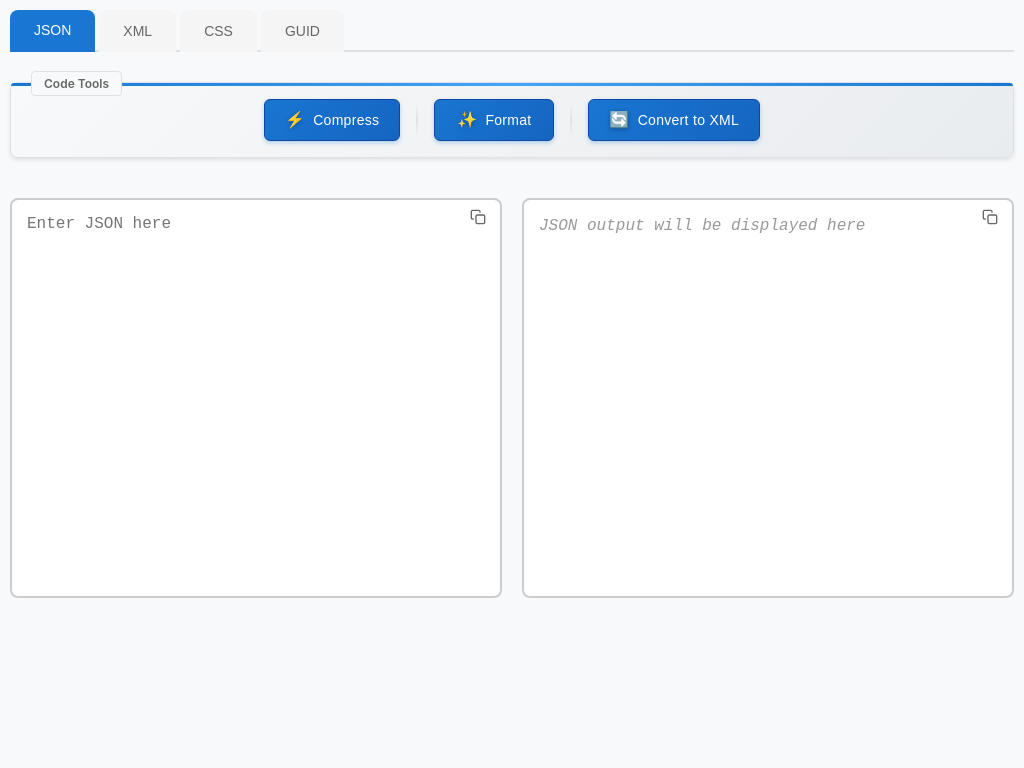
converts XML to JSON correctly
The width and height of the screenshot is (1024, 768).
# Switch to XML tab
Step 1. Click the button "XML" → (138, 31), box [99,10,176,52]
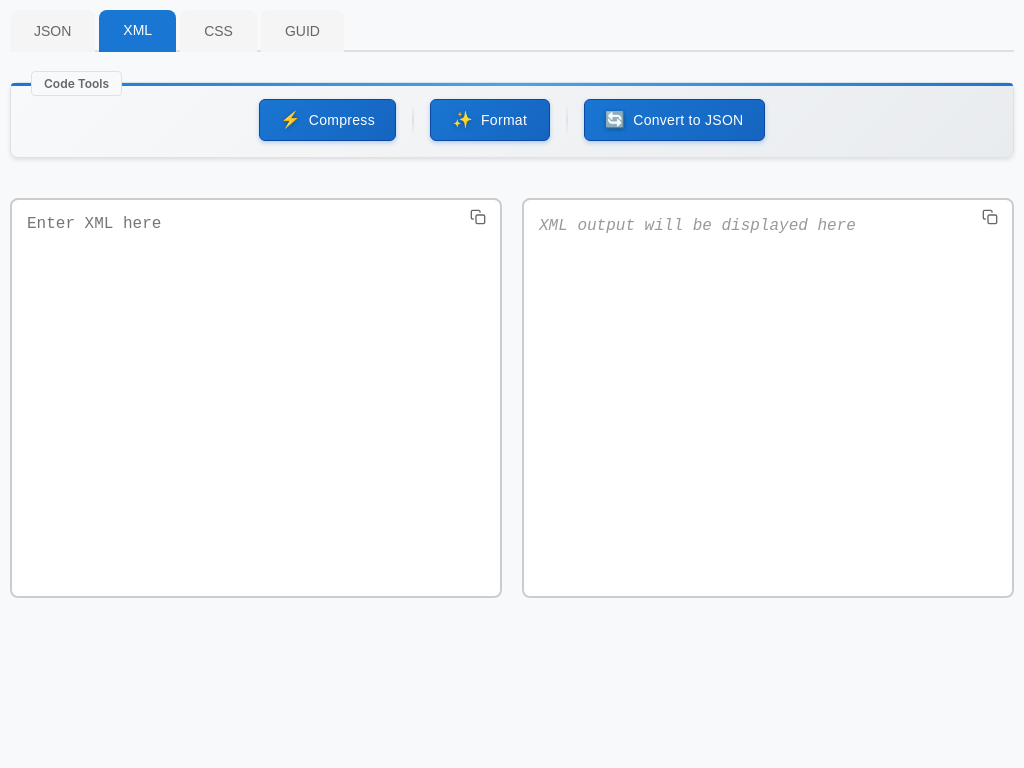
Step 2. Type "<root><name>John</name><age>30</age></root>" into the text box with placeholder "Enter XML here" → (256, 398), box [10,198,502,598]
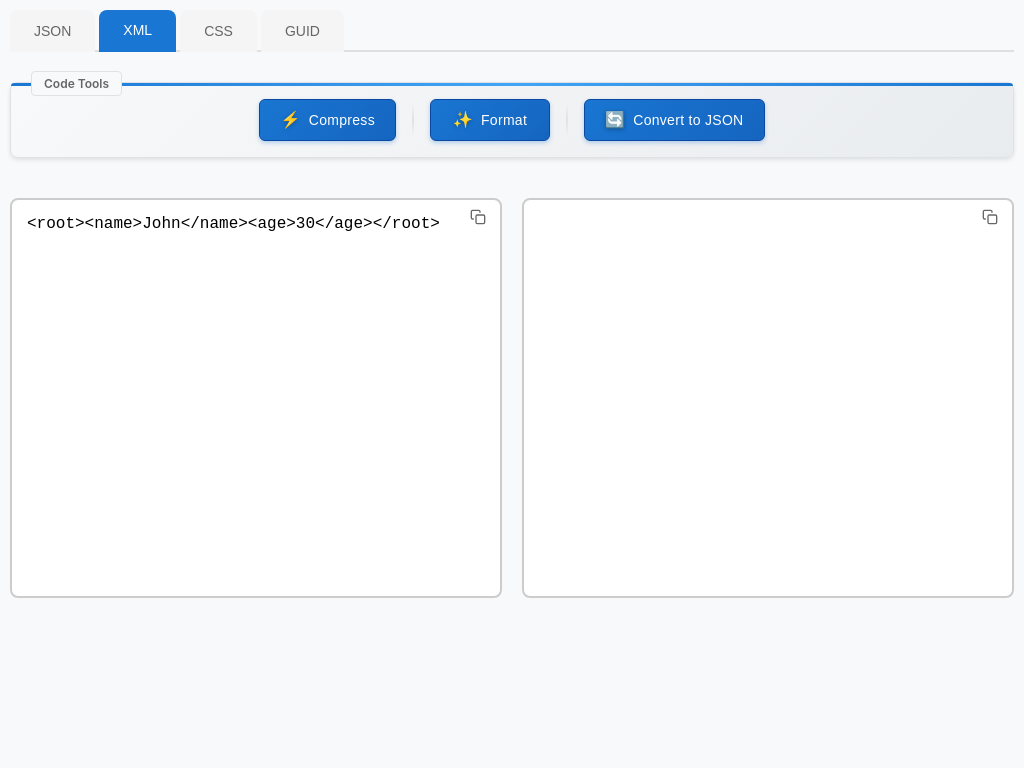
Step 3. Click the button "Convert to JSON" → (674, 120), box [584,99,764,141]
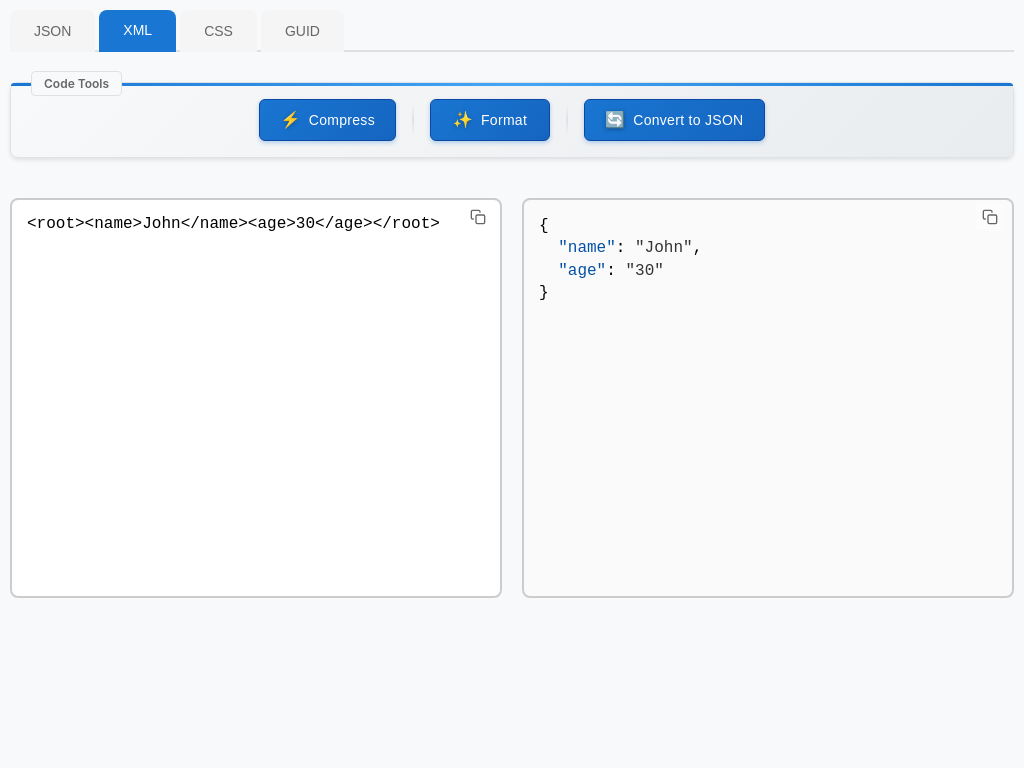
Now the element with class "code-output" reads "{ \"name\": \"John\", \"age\": \"30\" }", box [522,198,1014,598]
